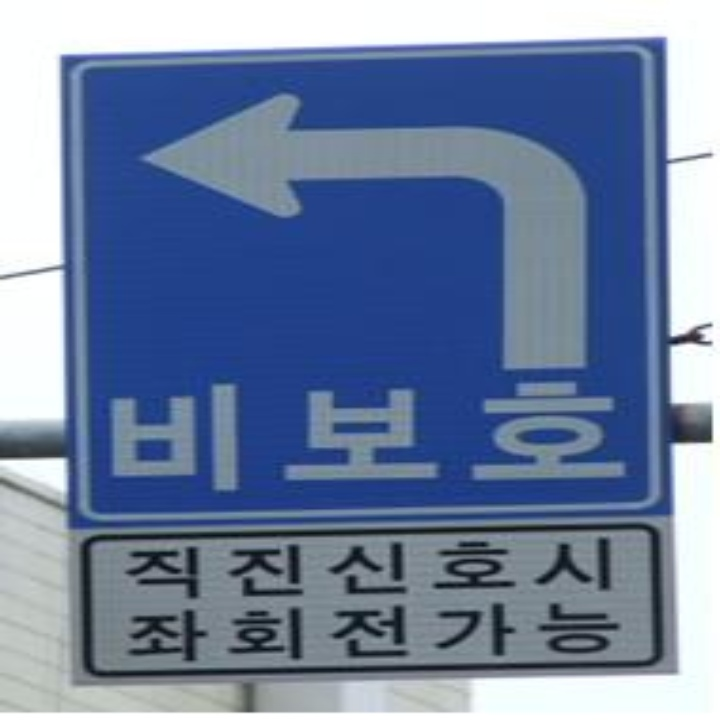left: (132, 78, 610, 374)
